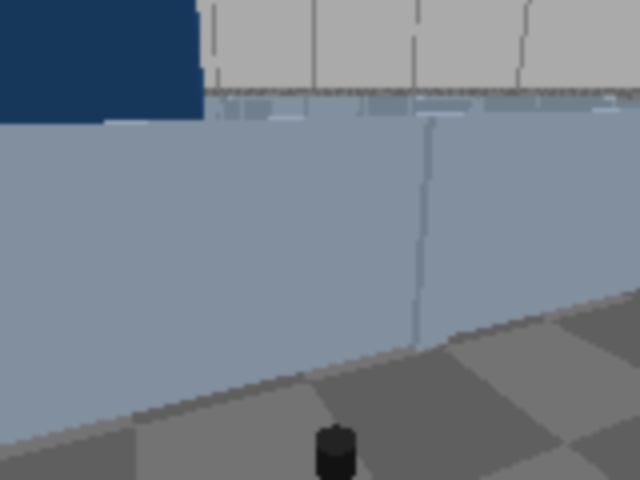puck: (321, 429, 352, 478)
